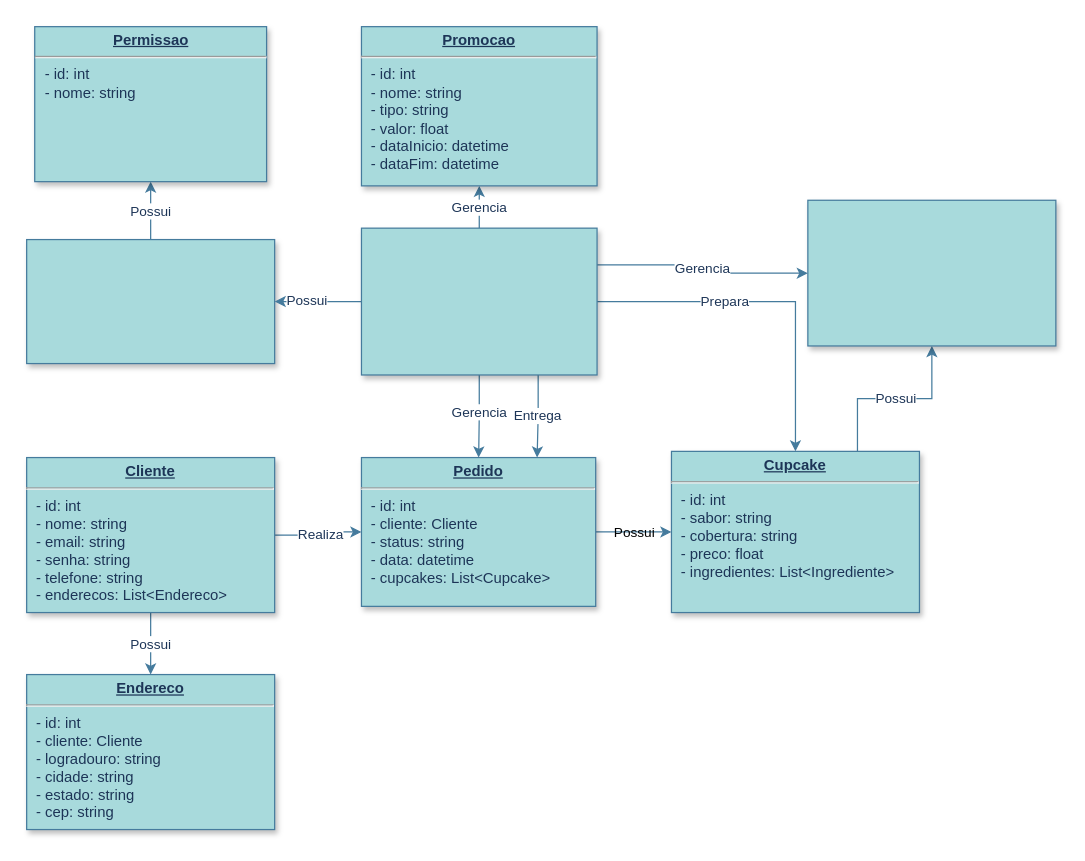
Image size: 1085x861. Some labels were removed from this diagram. The shapes that lost their labels are listed below. From the top down, each one's centre as x and y in pixels, then its label:
At (932,274): "Ingrediente - id: int - nome: string - quantidade: int".
At (151,302): "Cargo - id: int - nome: string - descricao: string - permissoes: List<Permissao>".
At (479,303): "Usuario - id: int - nome: string - email: string - senha: string - cargo: Cargo".
